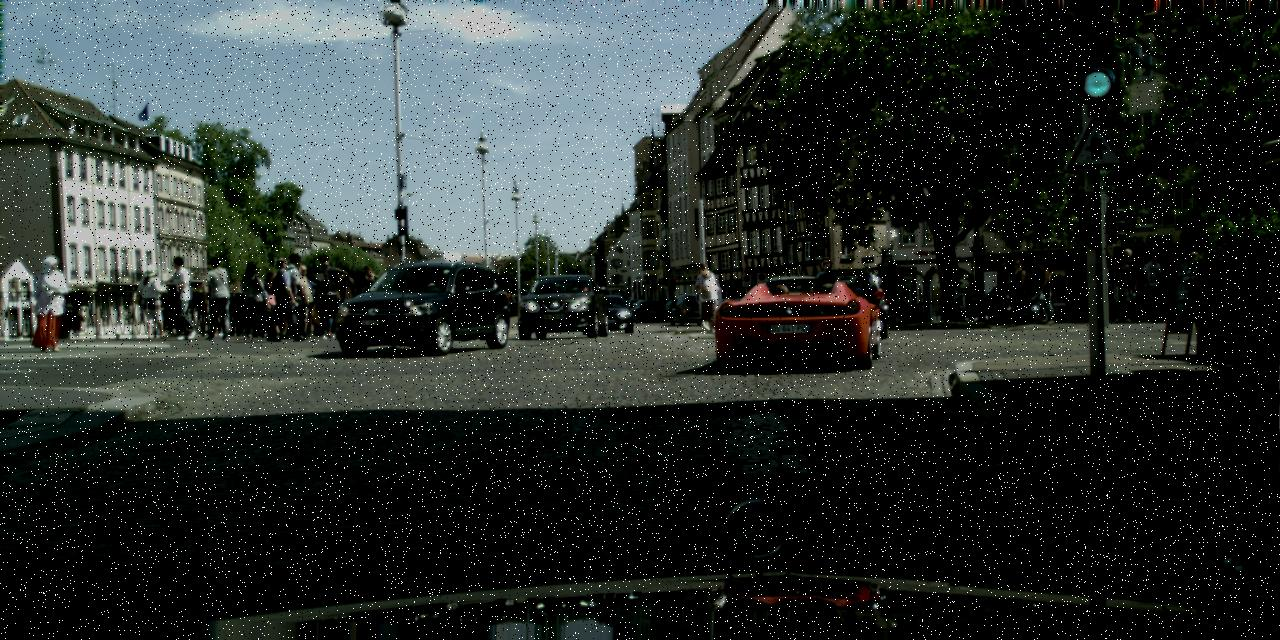ped: (30, 254, 70, 351), (274, 253, 310, 338), (267, 257, 301, 341), (198, 256, 232, 340), (165, 255, 199, 339), (308, 254, 342, 337), (239, 260, 270, 336), (138, 264, 168, 338), (286, 264, 316, 337), (1110, 248, 1139, 322), (691, 262, 720, 332), (320, 268, 348, 337), (1138, 252, 1166, 321), (258, 271, 284, 336), (1027, 258, 1053, 323), (296, 271, 322, 334), (1003, 259, 1029, 322), (332, 268, 358, 330), (696, 270, 721, 334), (1007, 262, 1031, 321), (349, 270, 372, 326), (1032, 265, 1054, 323), (359, 266, 379, 316), (1129, 288, 1147, 320), (1108, 285, 1116, 319), (1108, 258, 1118, 282), (1156, 290, 1165, 311), (507, 294, 517, 302)
